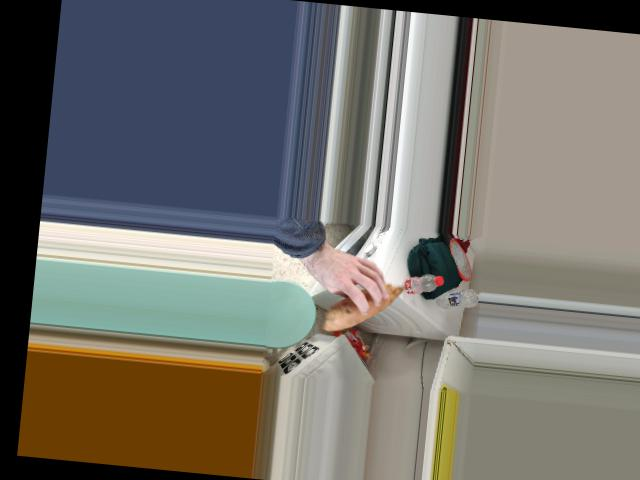sweet_potato: (333, 269, 402, 336)
